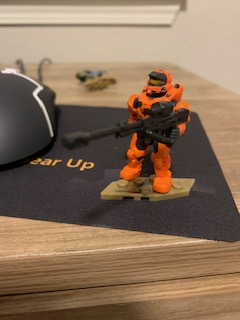spartan: (118, 68, 192, 192)
